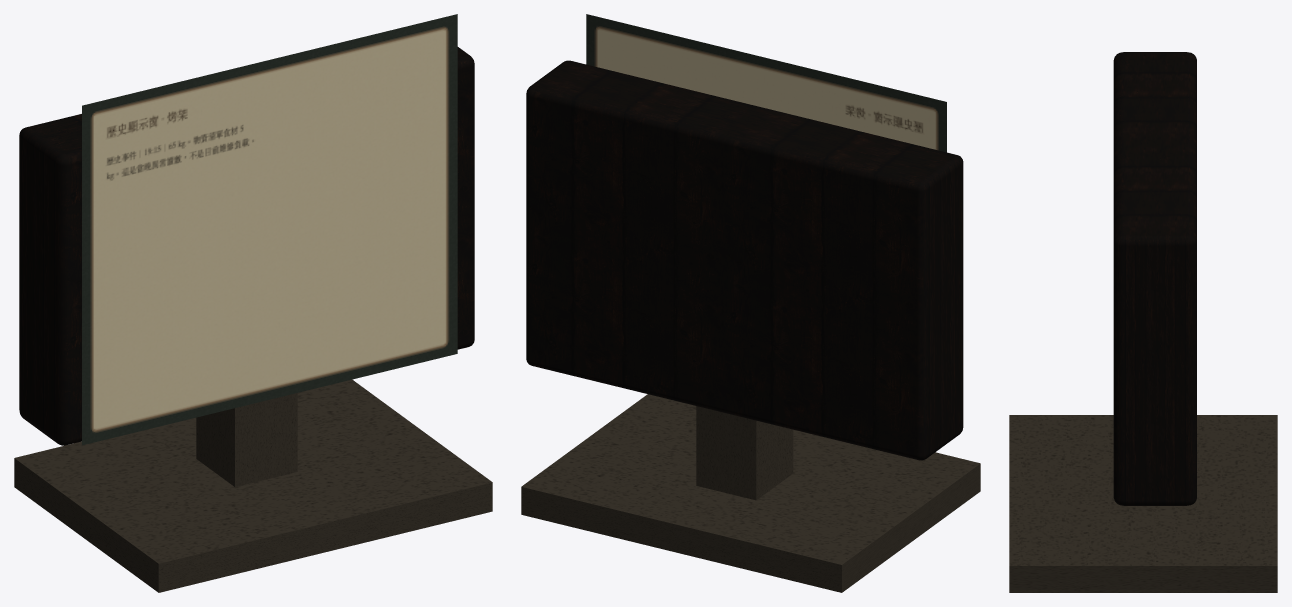
3 views of the same model, side by side, from view 1: azimuth 30°, elevation 25°; view 2: azimuth 150°, elevation 25°; view 3: azimuth 270°, elevation 25° (orthographic). The views are drawn at different scales.
Visible parts, largest first — view 1: c-history; view 2: c-history; view 3: c-history.
Boxes of the visible parts, x1,y1,x2,y2 form: c-history: (14,14,492,592); c-history: (521,14,980,592); c-history: (1009,52,1277,592).
Bounding box in the file's own units: 0.3 × 0.31 × 0.18.
3 materials, 3 textured.
